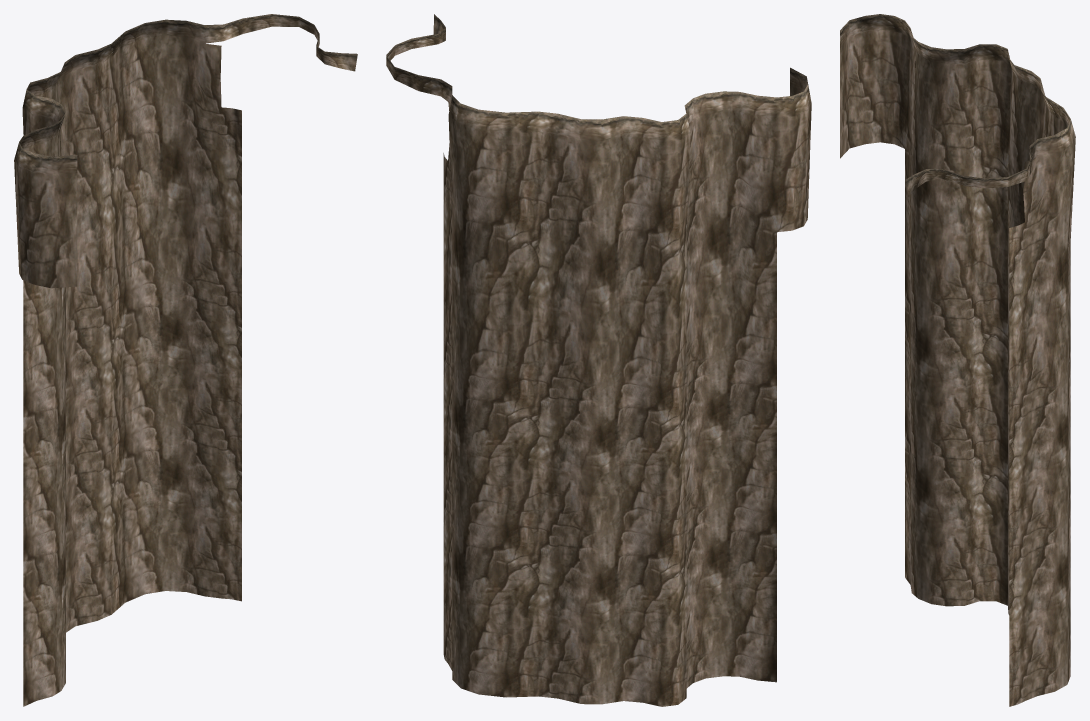
Rendered from OVERHILL_A_01_OBJECT56.fbx.
The picture shows the model from 3 angles, left to right: view 1: azimuth 30°, elevation 25°; view 2: azimuth 150°, elevation 25°; view 3: azimuth 270°, elevation 25°; orthographic projection. The views are drawn at different scales.
Parts seen in each view (by area): view 1: OVERHILL_A_01_OBJECT56; view 2: OVERHILL_A_01_OBJECT56; view 3: OVERHILL_A_01_OBJECT56.
Boxes of the visible parts, x1,y1,x2,y2 form: OVERHILL_A_01_OBJECT56: (14, 14, 357, 706); OVERHILL_A_01_OBJECT56: (386, 14, 811, 706); OVERHILL_A_01_OBJECT56: (840, 14, 1075, 706).
Size of the model in its own units: 214562 by 332876 by 127700.
Materials: 2 (2 with a texture image).
